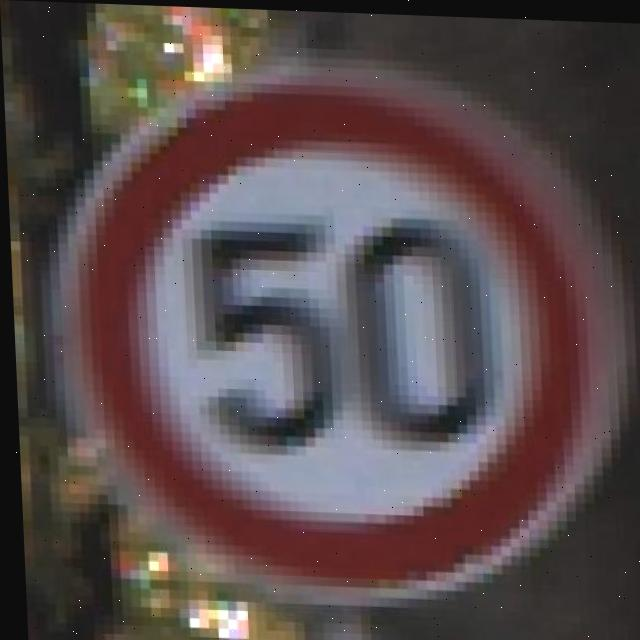Speed limit 50: (55, 56, 640, 605)
